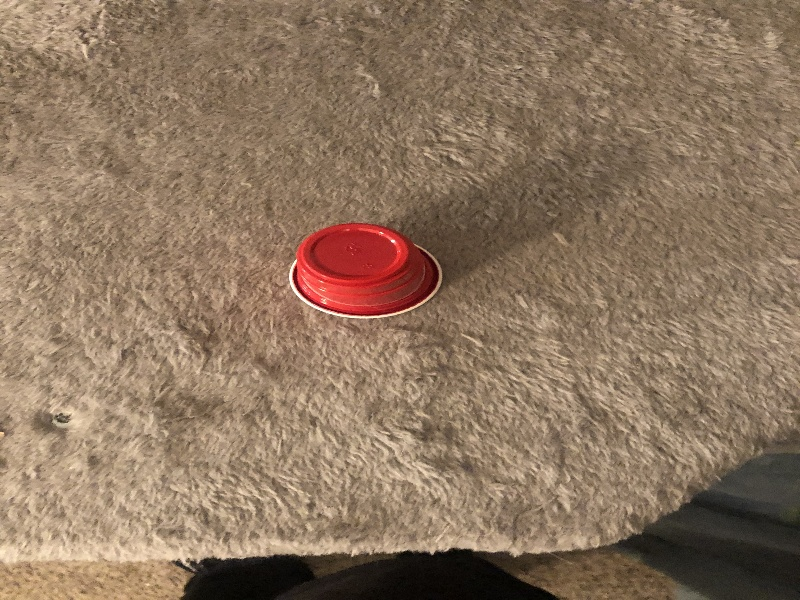plastic: (283, 220, 449, 322)
